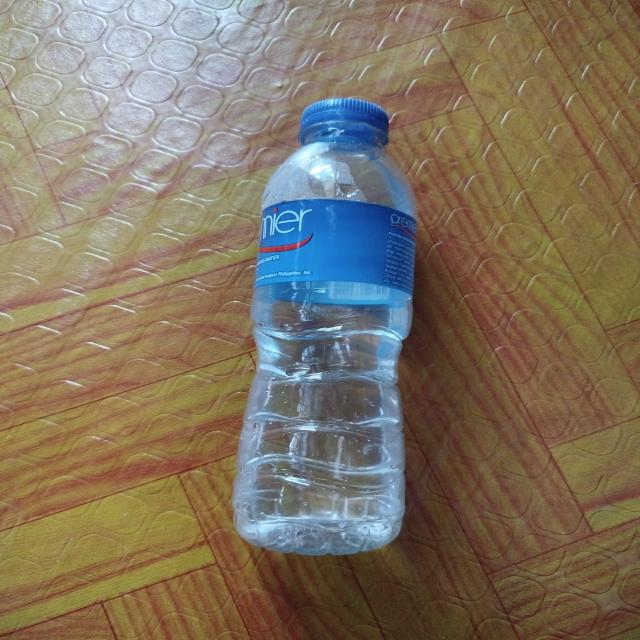plastic: (220, 87, 450, 576)
